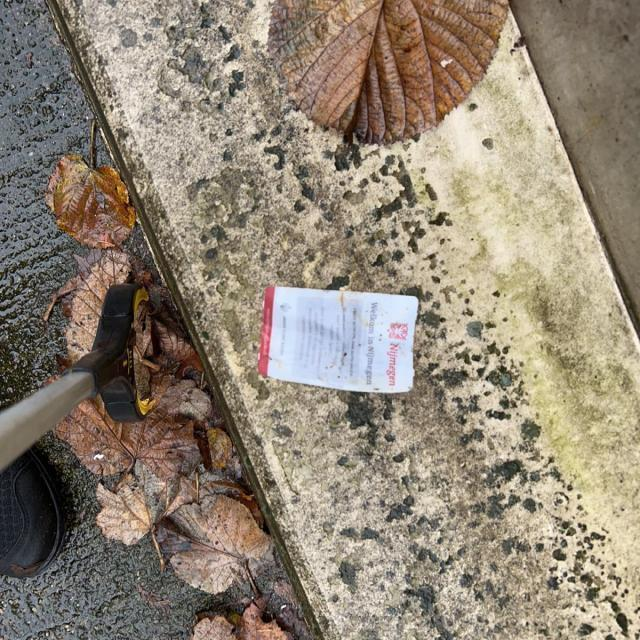Paper: (253, 281, 420, 396)
